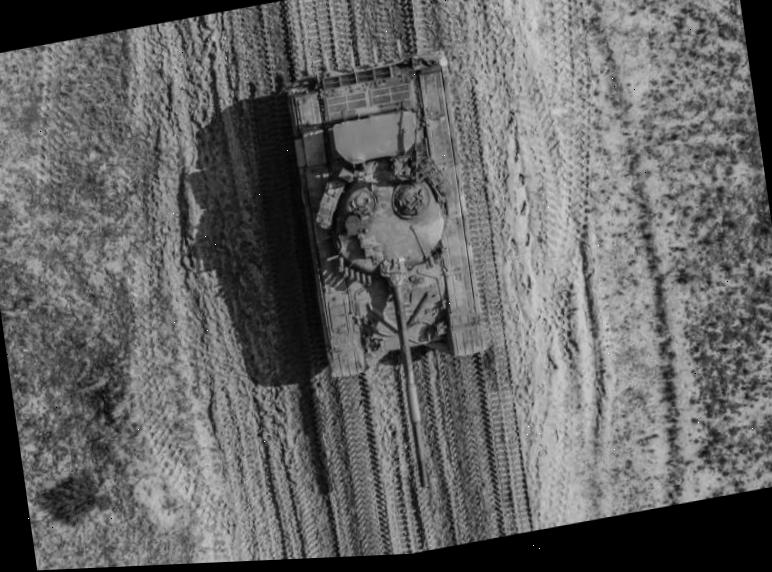tank: (272, 34, 512, 507)
